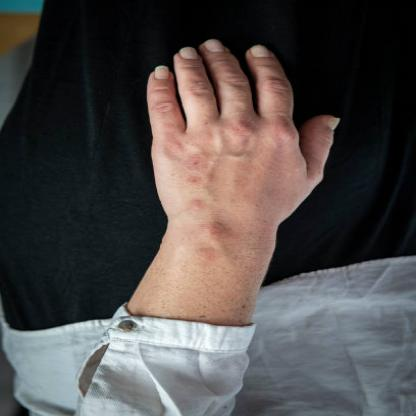Bed Bug: (184, 221, 240, 264), (173, 152, 222, 190), (220, 119, 258, 139), (178, 200, 223, 213)
